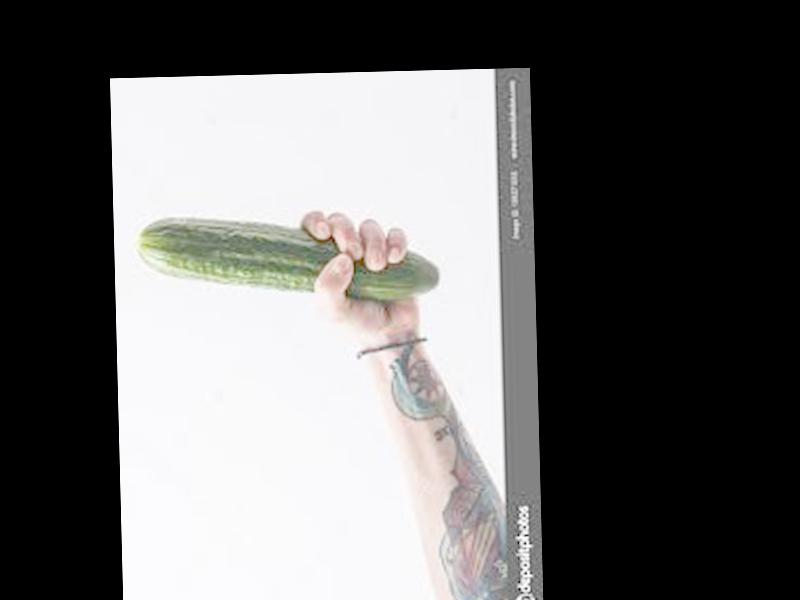Cucumber: (133, 210, 437, 305)
